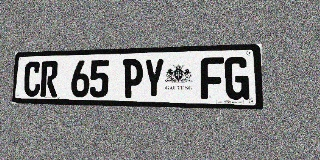5: (90, 60, 109, 98)
6: (71, 60, 90, 97)
C: (23, 61, 41, 97)
F: (201, 57, 224, 99)
G: (225, 56, 249, 100)
P: (122, 59, 143, 98)
R: (40, 61, 58, 97)
Y: (143, 58, 164, 99)
